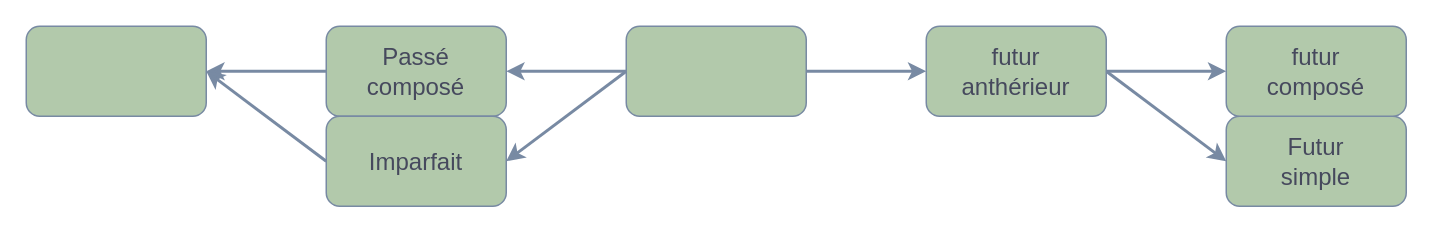
Some shapes in this 1433 by 233 pixel diagram are drawn without their labels. Here are the shapes that lost their labels. From the top down, the centre of each, then its label:
the point at 115,70: Plus- que- parfait
the point at 715,70: Présent X
